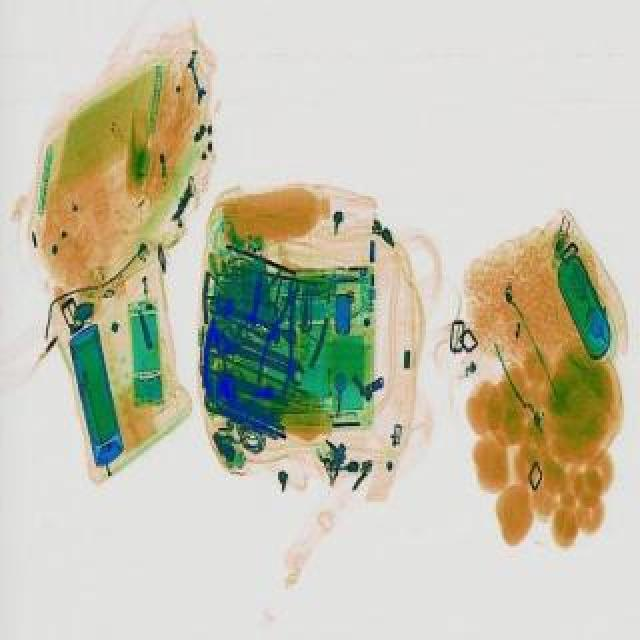wrench: (250, 274, 310, 398), (262, 276, 294, 340)
